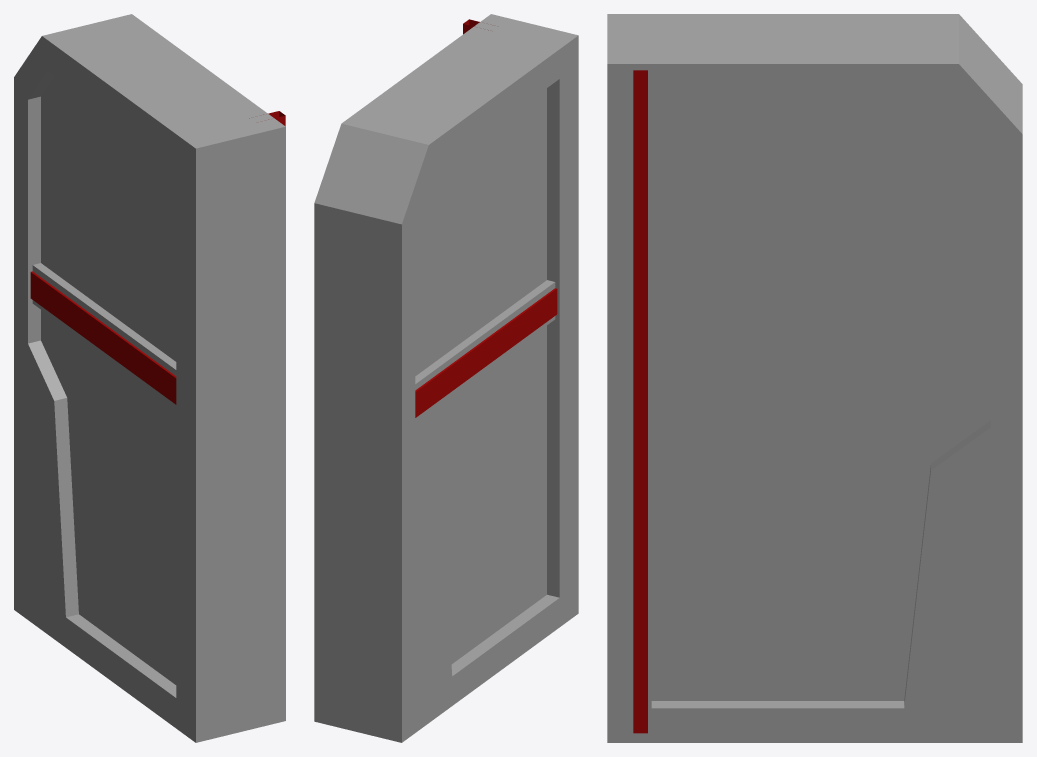
Rendered from Door_2_withleds_right.fbx.
3 views of the same model, side by side, from view 1: azimuth 30°, elevation 25°; view 2: azimuth 150°, elevation 25°; view 3: azimuth 270°, elevation 25° (orthographic). The views are drawn at different scales.
Parts seen in each view (by area): view 1: Door_L, Led_door; view 2: Door_L, Led_door; view 3: Door_L, pasted__pCube20.
Part boxes in pixels (bbox=[...]): Door_L: bbox=[14, 14, 285, 742]; Led_door: bbox=[30, 271, 176, 404]; Door_L: bbox=[314, 14, 578, 742]; Led_door: bbox=[415, 288, 557, 417]; Door_L: bbox=[607, 14, 1022, 742]; pasted__pCube20: bbox=[633, 70, 647, 733].
Size of the model in its own units: 80.99 by 455 by 252.
